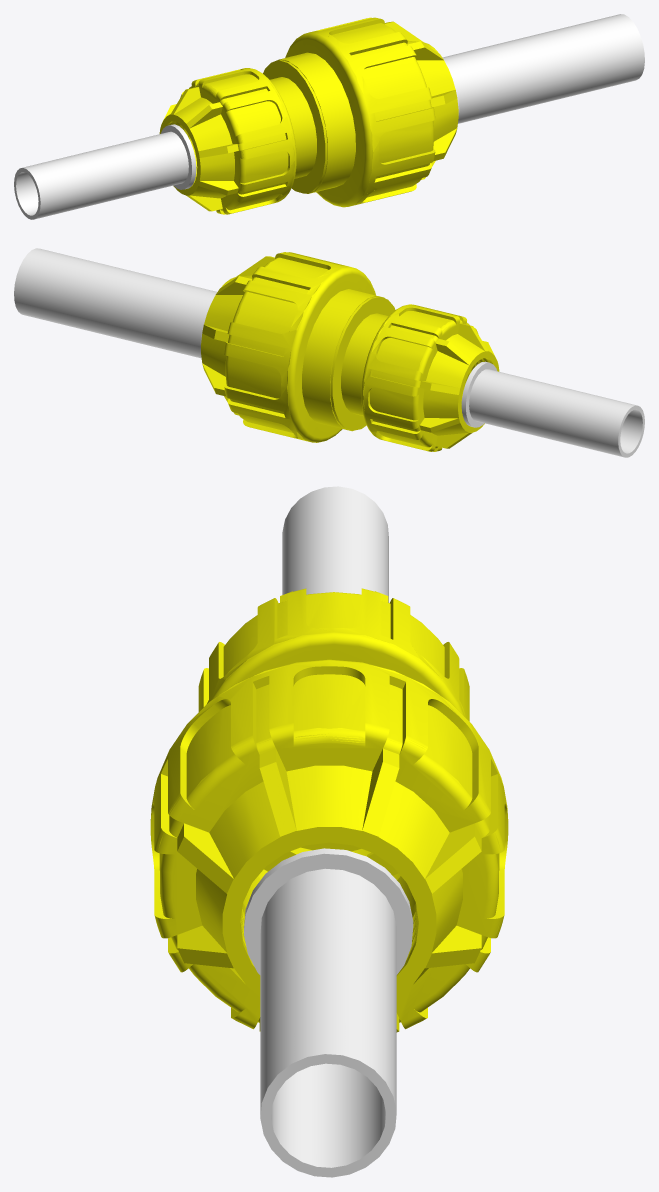
File: drill_01.obj
The picture shows the model from 3 angles, top to bottom: view 1: azimuth 30°, elevation 25°; view 2: azimuth 150°, elevation 25°; view 3: azimuth 270°, elevation 25°; orthographic projection. The views are drawn at different scales.
Parts seen in each view (by area): view 1: Mesh3 G_22_06_020_01_1 Group3 Model, Mesh1 G_22_06_020_01 Group1 Model, Mesh5 Component_3_1 Model, Mesh6 Component_3_2 Model, Mesh4 Group5 Group4 Model, Mesh2 Group2 Model; view 2: Mesh3 G_22_06_020_01_1 Group3 Model, Mesh1 G_22_06_020_01 Group1 Model, Mesh5 Component_3_1 Model, Mesh6 Component_3_2 Model, Mesh4 Group5 Group4 Model, Mesh2 Group2 Model; view 3: Mesh3 G_22_06_020_01_1 Group3 Model, Mesh5 Component_3_1 Model, Mesh1 G_22_06_020_01 Group1 Model, Mesh6 Component_3_2 Model.
Part boxes in pixels (left/top/right/bottom): Mesh3 G_22_06_020_01_1 Group3 Model: left=285, top=17, right=458, bottom=207; Mesh1 G_22_06_020_01 Group1 Model: left=159, top=68, right=296, bottom=214; Mesh5 Component_3_1 Model: left=442, top=14, right=644, bottom=123; Mesh6 Component_3_2 Model: left=14, top=124, right=196, bottom=219; Mesh4 Group5 Group4 Model: left=263, top=60, right=327, bottom=193; Mesh2 Group2 Model: left=273, top=52, right=355, bottom=193; Mesh3 G_22_06_020_01_1 Group3 Model: left=201, top=252, right=375, bottom=442; Mesh1 G_22_06_020_01 Group1 Model: left=361, top=304, right=499, bottom=451; Mesh5 Component_3_1 Model: left=14, top=248, right=217, bottom=358; Mesh6 Component_3_2 Model: left=461, top=361, right=644, bottom=457; Mesh4 Group5 Group4 Model: left=330, top=296, right=395, bottom=430; Mesh2 Group2 Model: left=302, top=289, right=385, bottom=431; Mesh3 G_22_06_020_01_1 Group3 Model: left=150, top=659, right=508, bottom=1032; Mesh5 Component_3_1 Model: left=244, top=848, right=413, bottom=1177; Mesh1 G_22_06_020_01 Group1 Model: left=198, top=588, right=469, bottom=721; Mesh6 Component_3_2 Model: left=282, top=486, right=388, bottom=602.
Bounding box in the file's own units: 262 × 67.67 × 67.67.
